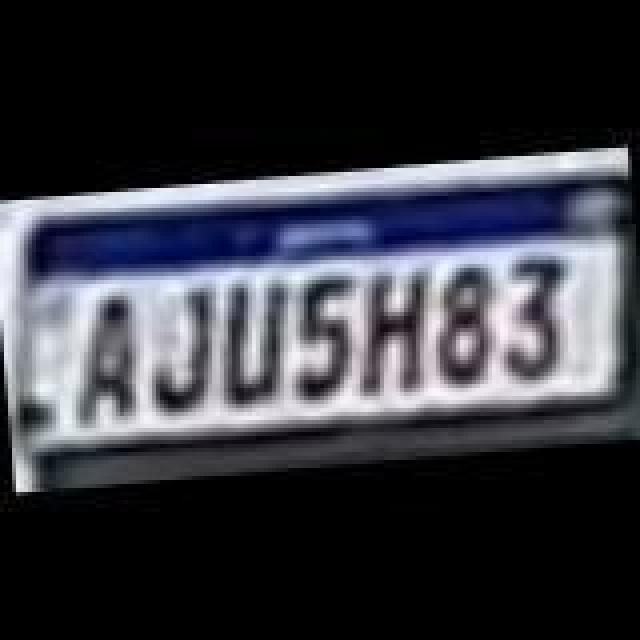3: (478, 252, 570, 388)
5: (284, 266, 364, 398)
8: (424, 254, 504, 394)
A: (60, 292, 156, 428)
H: (350, 254, 434, 402)
J: (138, 280, 230, 416)
U: (202, 270, 294, 410)
